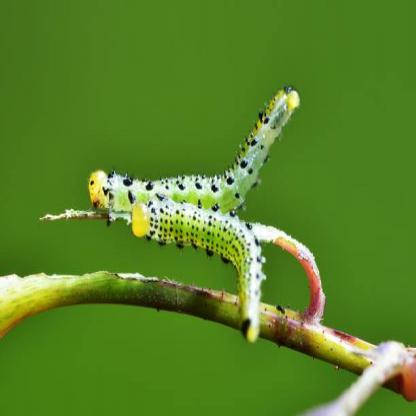sawfly: (82, 81, 302, 223), (124, 191, 266, 347)
